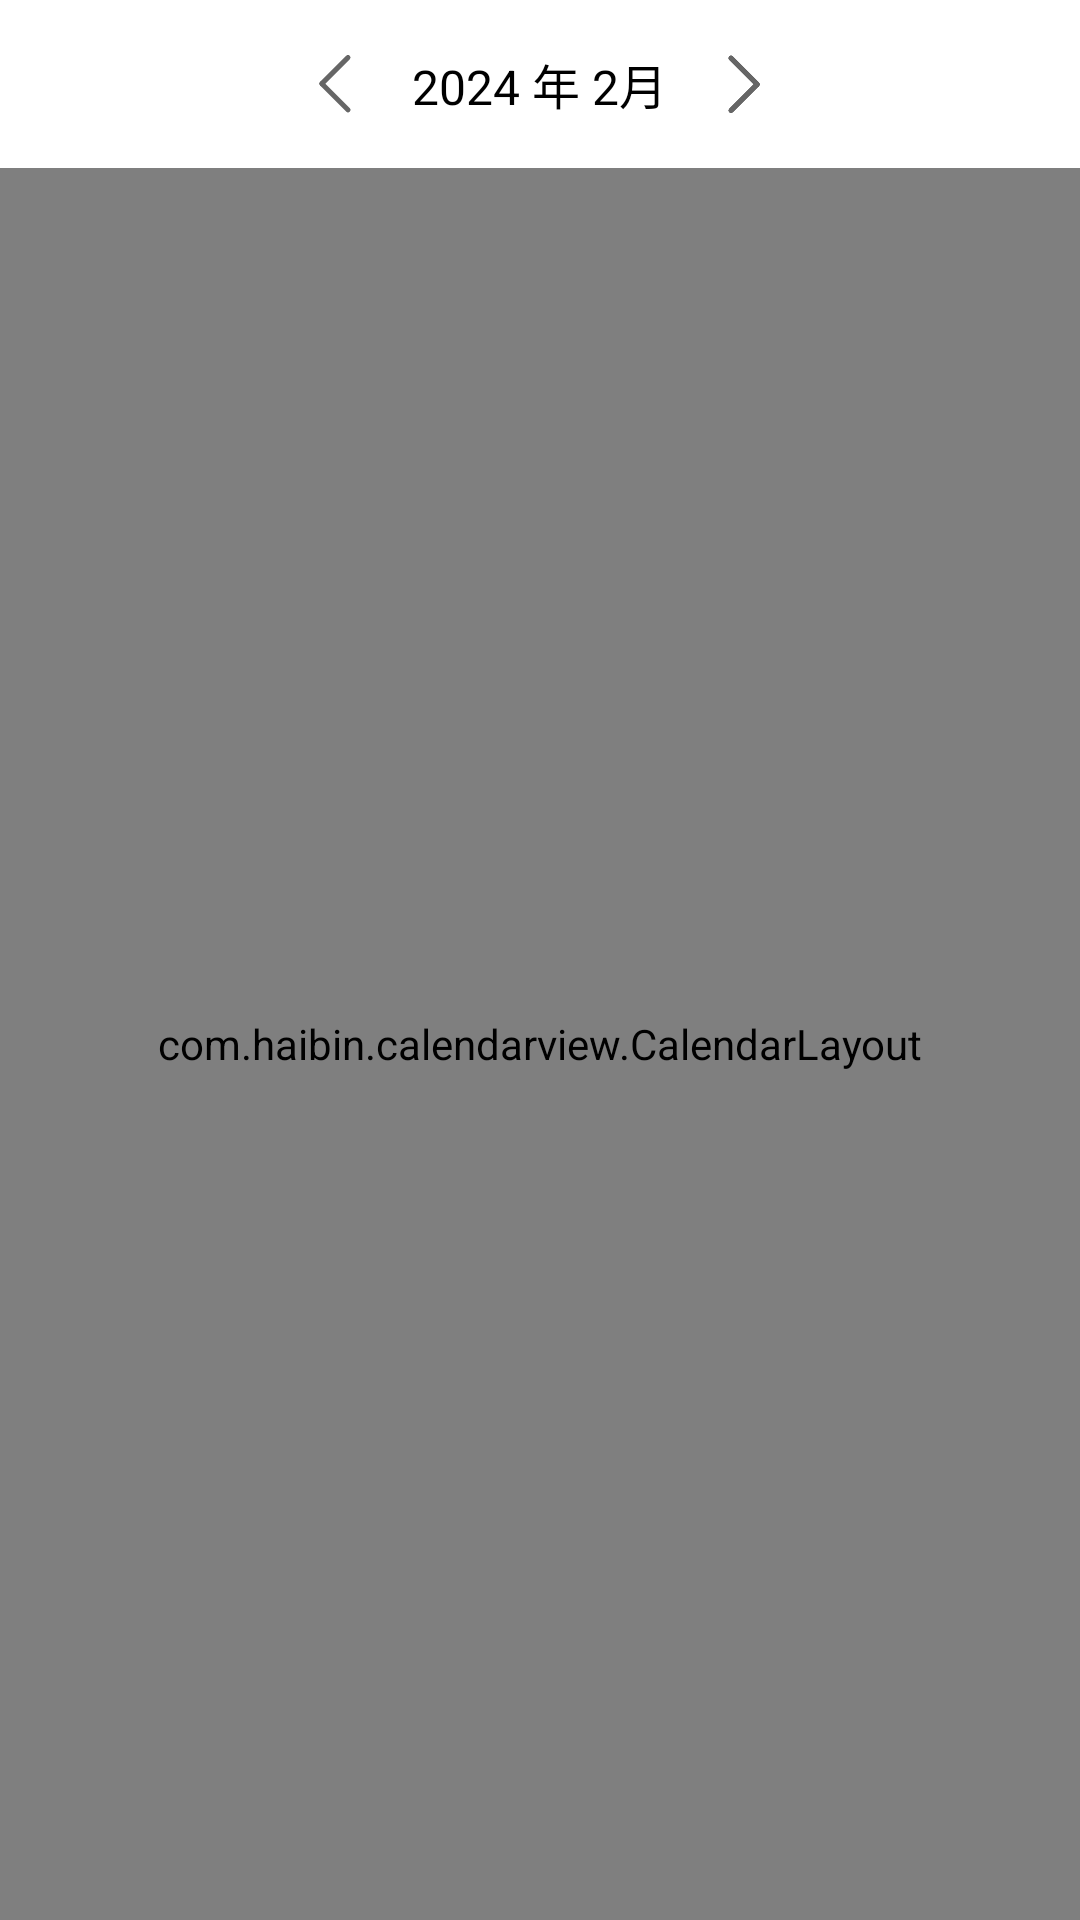

Icons on this 1080px×1920px Android screen, each with its box as bbox(x1, y1, x2, y2):
back: bbox(319, 55, 351, 113)
right: bbox(728, 55, 760, 113)
